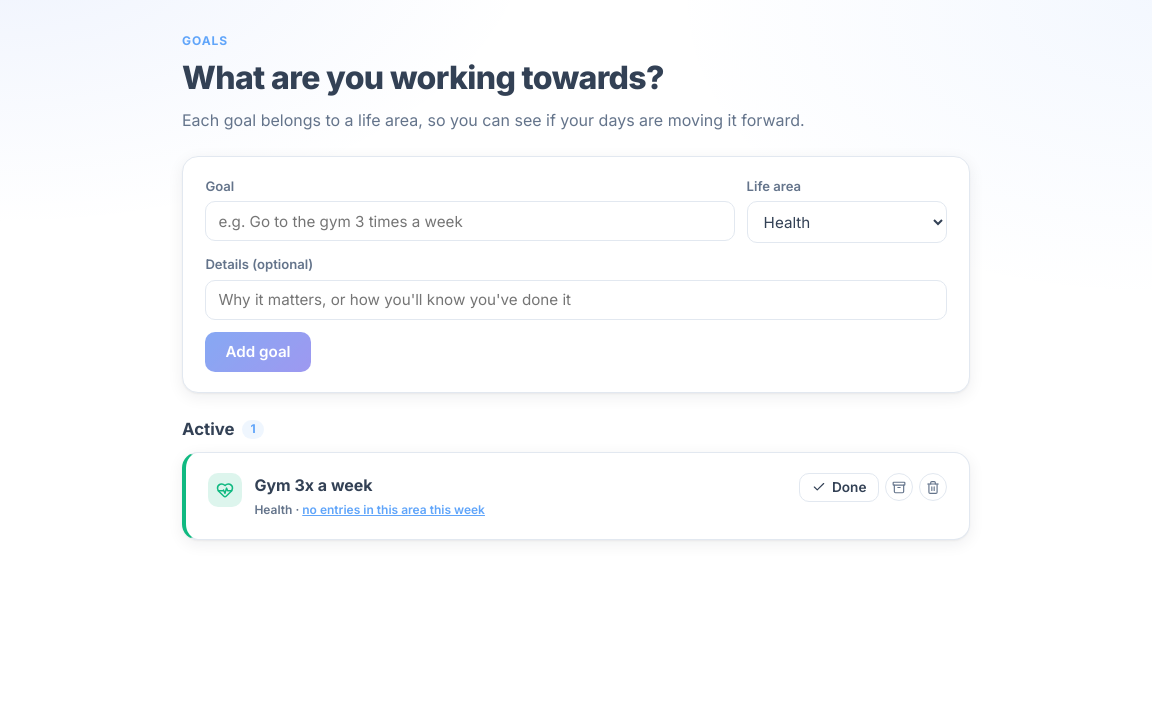
Scenario: Goals › deletes a goal
The image size is (1152, 720).
Click the button named "Delete goal" at (933, 487), box [919,473,947,501]
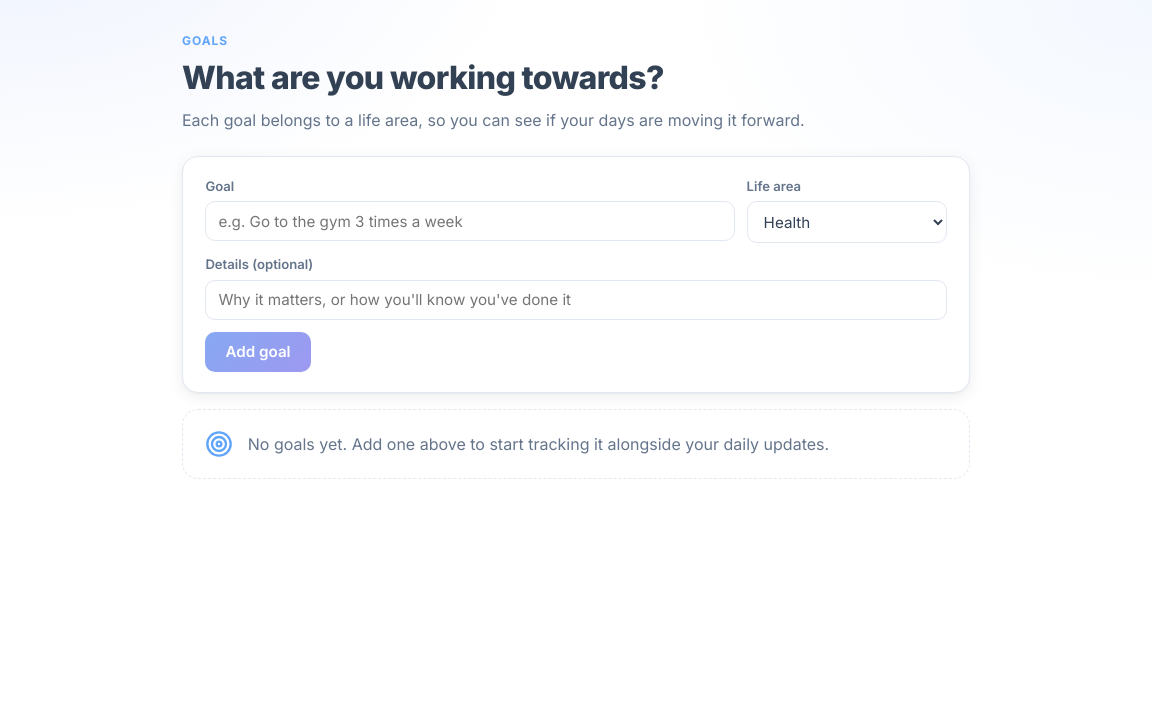
Check: the text "Gym 3x a week" is gone
Check: the text "No goals yet" is shown, box [248,434,829,454]
